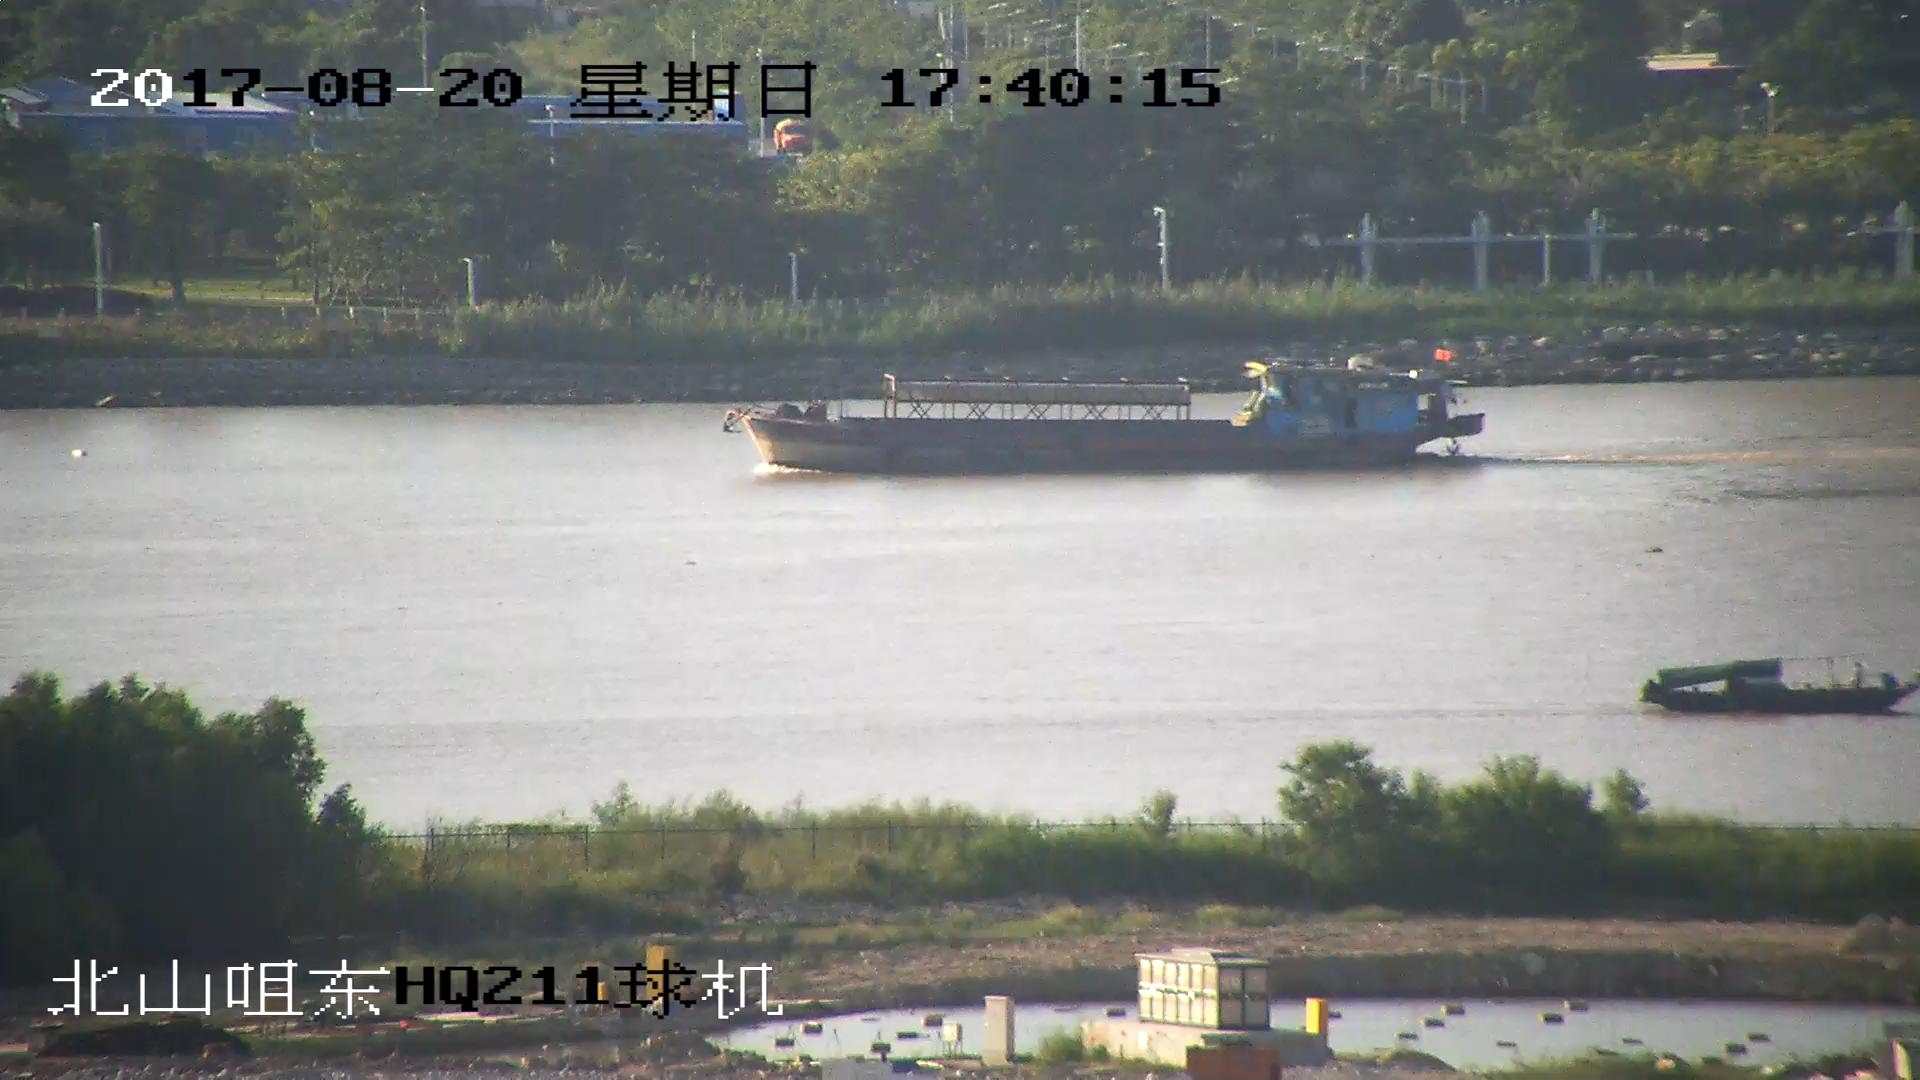fishing boat: (717, 345, 1487, 471), (1638, 654, 1920, 713)
